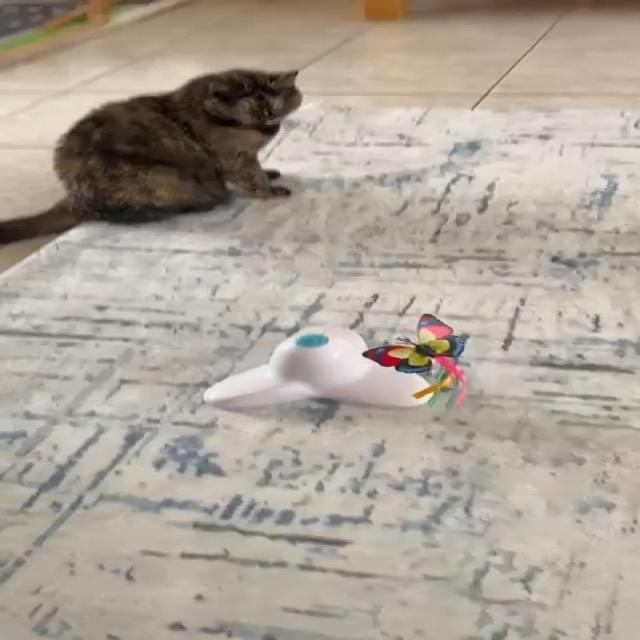authorized: (0, 66, 303, 245)
